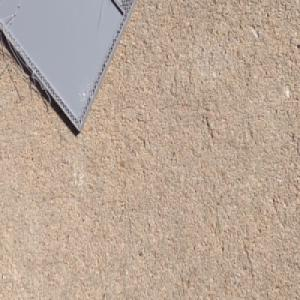PlasticPart: (0, 0, 141, 138)
